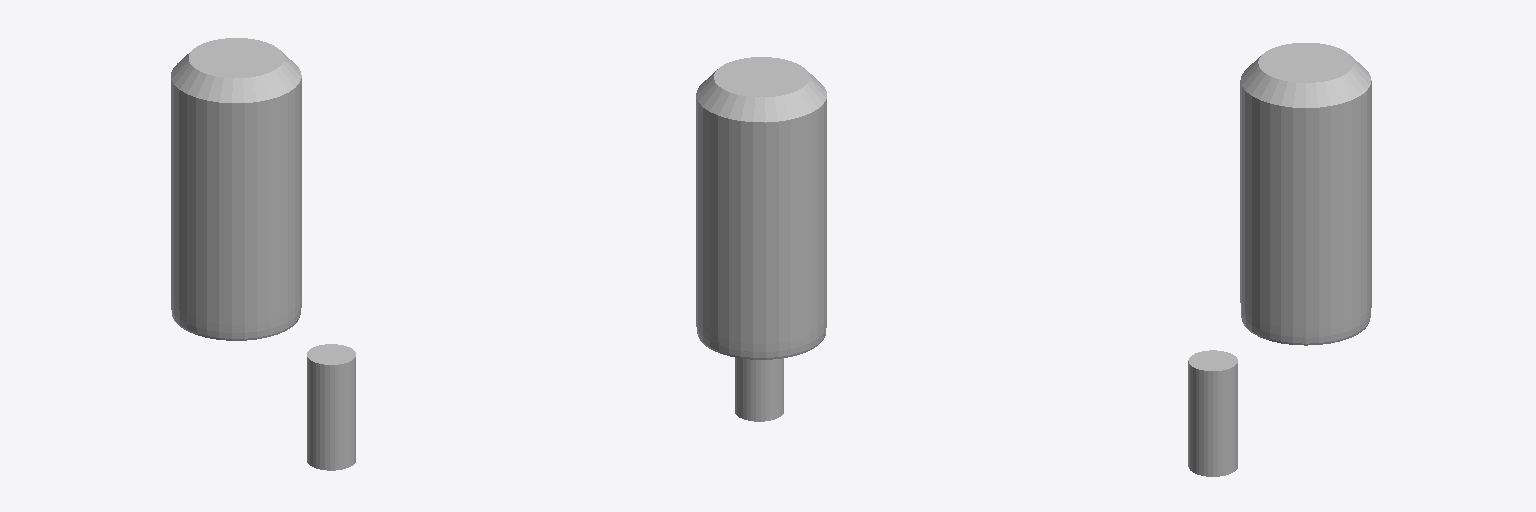
Rendered from fan_motor2.obj.
3 renders of one model, left to right at view 1: azimuth 30°, elevation 25°; view 2: azimuth 150°, elevation 25°; view 3: azimuth 270°, elevation 25°, orthographic.
Visible parts, largest first — view 1: fan_motor_2_Sphere.002; view 2: fan_motor_2_Sphere.002; view 3: fan_motor_2_Sphere.002.
Part boxes in pixels (bbox=[...]): fan_motor_2_Sphere.002: bbox=[171, 38, 355, 470]; fan_motor_2_Sphere.002: bbox=[696, 57, 826, 421]; fan_motor_2_Sphere.002: bbox=[1188, 43, 1371, 476].
Size of the model in its own units: 0.4357 by 1.25 by 0.5446.